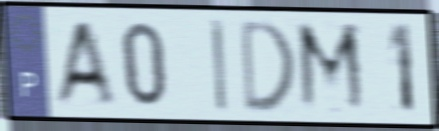0: (118, 19, 170, 110)
1: (386, 20, 417, 119)
A: (49, 17, 118, 108)
D: (238, 16, 297, 117)
I: (208, 16, 230, 116)
M: (294, 19, 370, 118)
